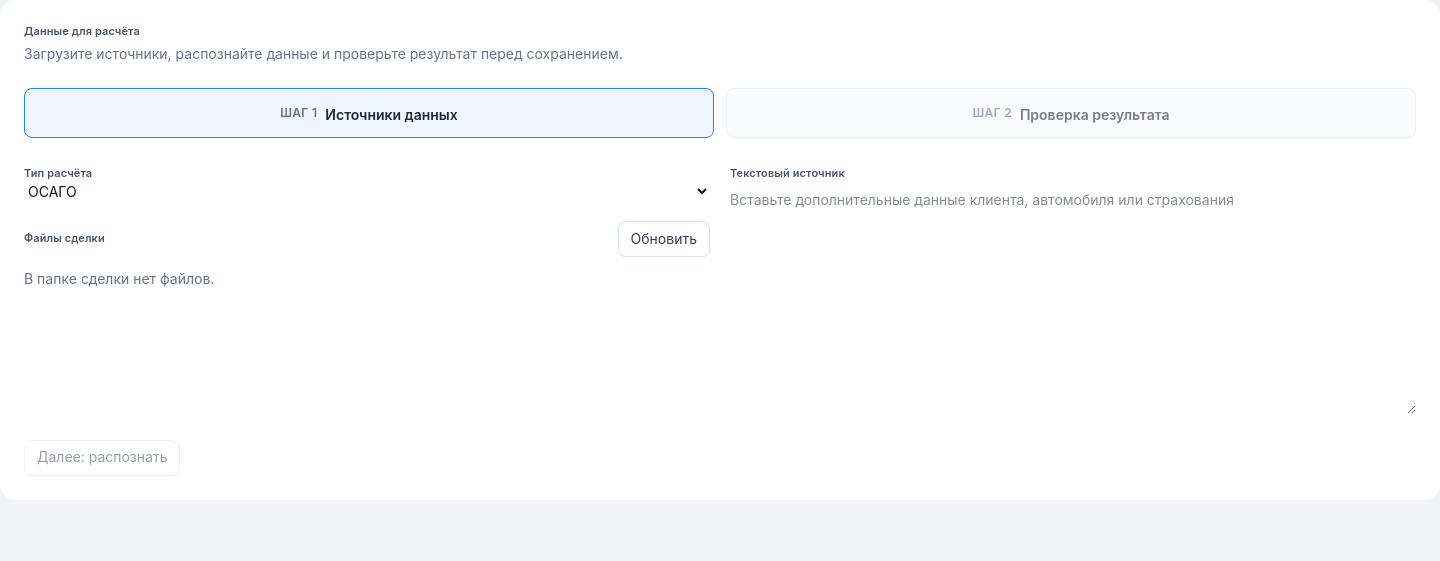
OsagoCalculationTab › shows recognition errors on the sources step
Replace the text in the text box labelled "Текстовый источник" with "данные" at [1073, 302], box [730, 190, 1416, 414]
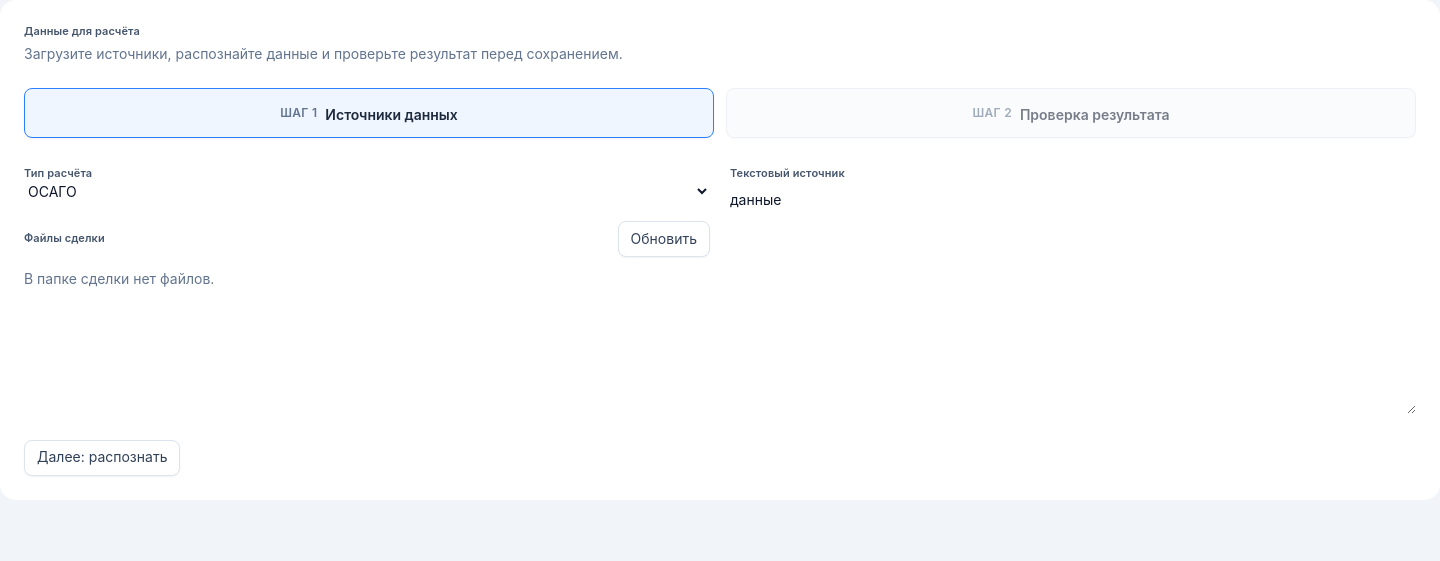
Click the button "Далее: распознать" at [102, 458], box [24, 440, 180, 476]
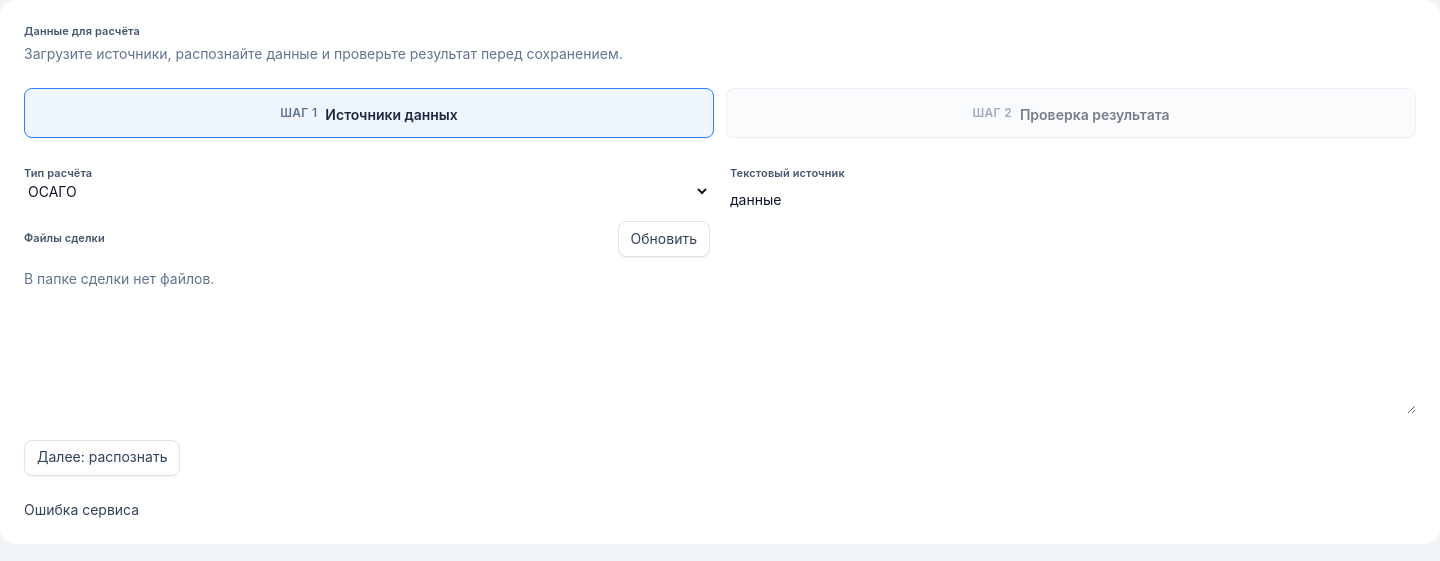
Result: the text "Ошибка сервиса" is shown at [24, 500, 139, 518]
